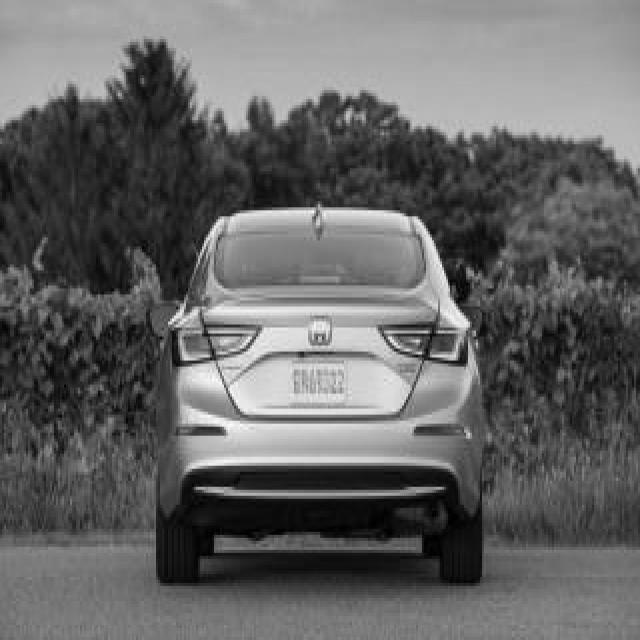Car: (152, 208, 482, 582)
